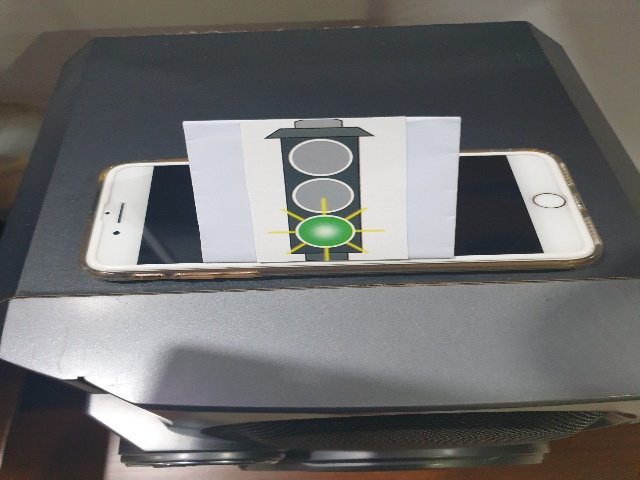Green Light: (254, 120, 394, 263)
